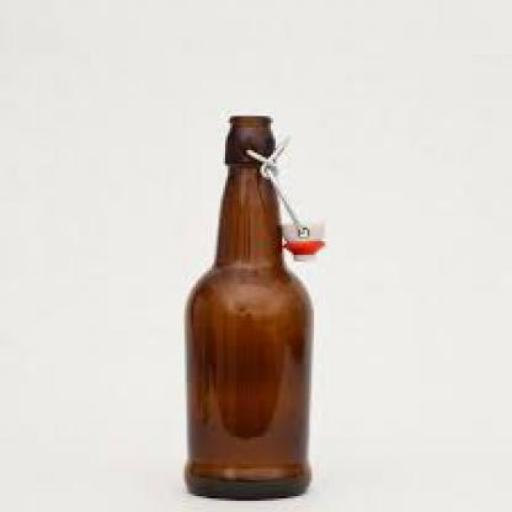glass: (182, 113, 309, 501)
metal: (246, 132, 304, 227)
plastic: (280, 218, 323, 262)
